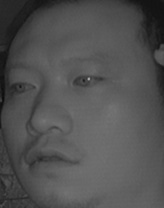eye: (71, 69, 104, 92), (5, 76, 39, 97)
mouth: (18, 141, 83, 176)
